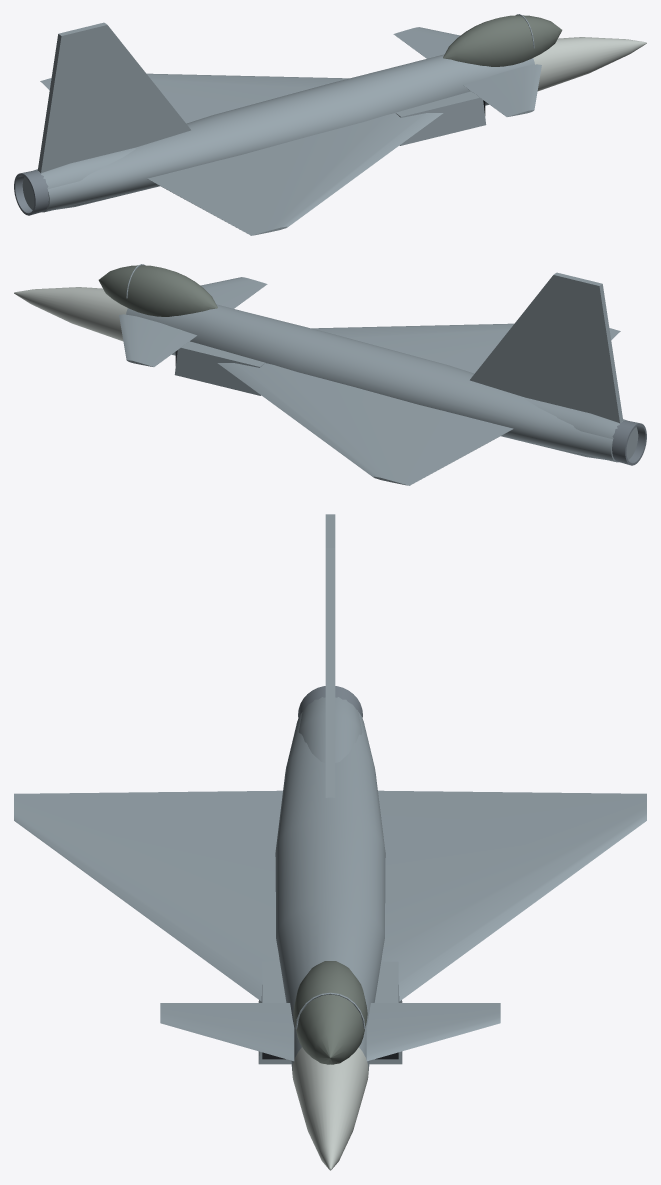
The model's file is swe_fighter_gripen_c.glb.
3 renders of one model, top to bottom at view 1: azimuth 30°, elevation 25°; view 2: azimuth 150°, elevation 25°; view 3: azimuth 270°, elevation 25°, orthographic. The views are drawn at different scales.
Visible parts, largest first — view 1: airframe, canopy_gold, array_face, titanium; view 2: airframe, canopy_gold, array_face, titanium; view 3: airframe, canopy_gold, array_face.
Part boxes in pixels (x1,y1,x2,y2): airframe: (22,14,541,235); canopy_gold: (443,15,562,66); array_face: (533,37,646,91); titanium: (14,170,48,215); airframe: (119,264,638,485); canopy_gold: (98,265,217,316); array_face: (14,287,127,341); titanium: (612,420,646,465); airframe: (14,514,646,1070); canopy_gold: (293,961,367,1064); array_face: (292,1047,368,1170).
Bounding box in the file's own units: 10 × 2.69 × 5.89.
